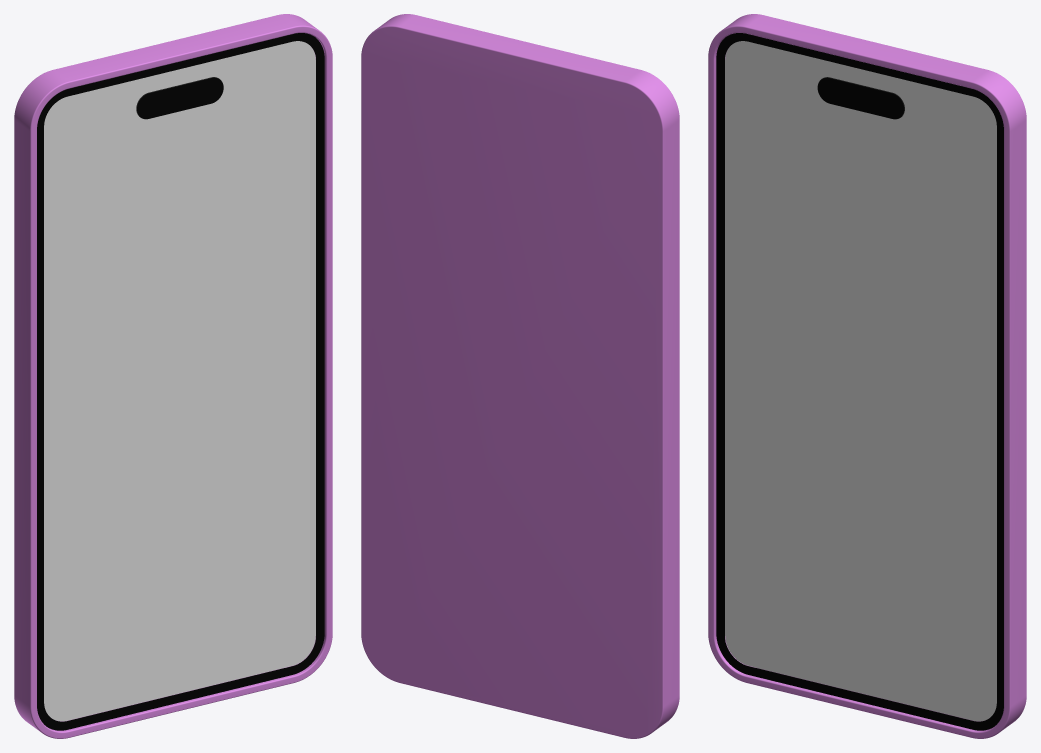
The model's file is iphone.glb.
3 views of the same model, side by side, from view 1: azimuth 30°, elevation 25°; view 2: azimuth 150°, elevation 25°; view 3: azimuth 330°, elevation 25° (orthographic).
Parts seen in each view (by area): view 1: Screen, Glass, Phone, CutAround, CameraHOle; view 2: Phone; view 3: Screen, Glass, Phone, CutAround, CameraHOle.
Boxes of the visible parts, <box> form: Screen: <box>44,41,315,721</box>; Glass: <box>44,41,315,720</box>; Phone: <box>14,14,332,738</box>; CutAround: <box>37,33,324,730</box>; CameraHOle: <box>136,77,223,119</box>; Phone: <box>361,14,679,738</box>; Screen: <box>725,41,996,721</box>; Glass: <box>725,41,996,720</box>; Phone: <box>708,14,1026,738</box>; CutAround: <box>716,33,1003,730</box>; CameraHOle: <box>817,77,904,119</box>.
Size of the model in its own units: 3.53 by 7.32 by 0.3423.
